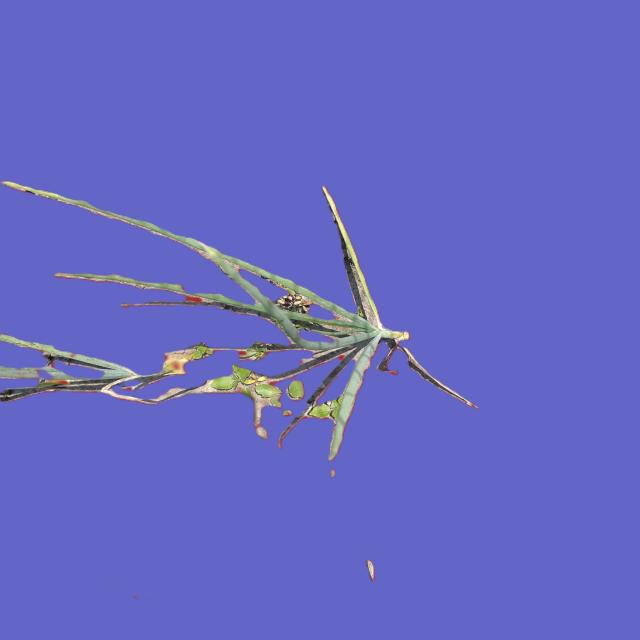Onion: (161, 193, 454, 394)
weed: (202, 366, 263, 399), (306, 398, 349, 423)
